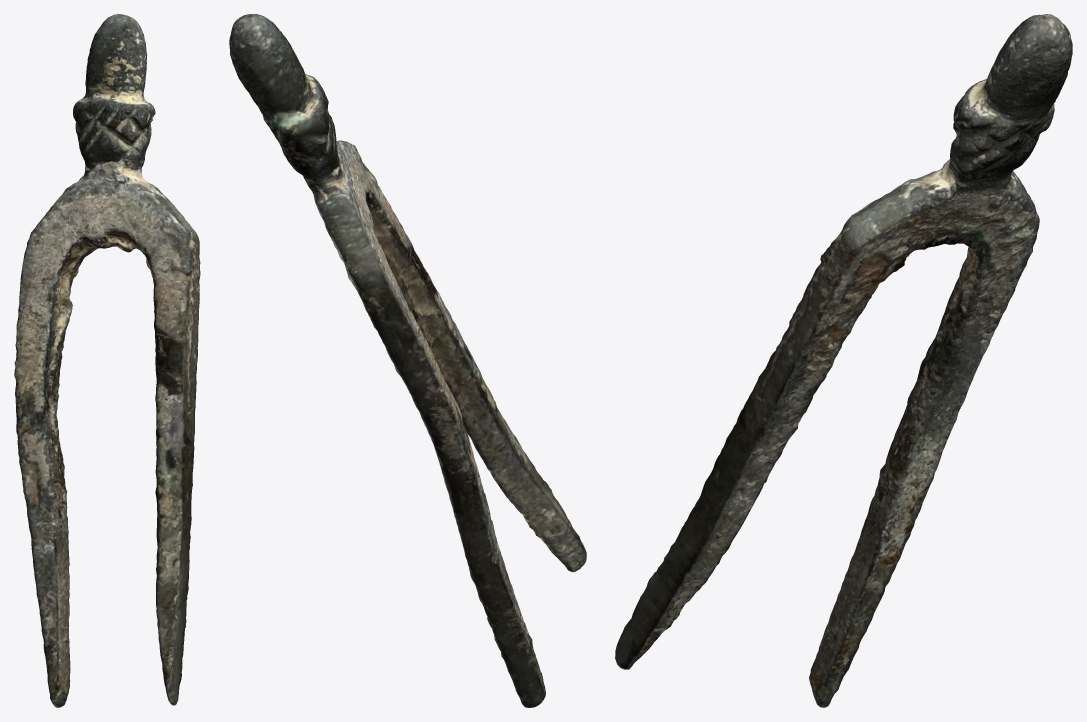
The model's file is spacer.glb.
3 views of the same model, side by side, from view 1: azimuth 30°, elevation 25°; view 2: azimuth 150°, elevation 25°; view 3: azimuth 270°, elevation 25° (orthographic). The views are drawn at different scales.
Visible parts, largest first — view 1: _87674052_99DA_4A72_9A7A_42E014F7F177; view 2: _87674052_99DA_4A72_9A7A_42E014F7F177; view 3: _87674052_99DA_4A72_9A7A_42E014F7F177.
Part boxes in pixels (bbox=[...]): _87674052_99DA_4A72_9A7A_42E014F7F177: bbox=[14, 14, 200, 707]; _87674052_99DA_4A72_9A7A_42E014F7F177: bbox=[229, 14, 586, 707]; _87674052_99DA_4A72_9A7A_42E014F7F177: bbox=[615, 14, 1072, 707].
Bounding box in the file's own units: 0.1746 × 0.5731 × 0.3033.
Materials: 1 (1 with a texture image).
